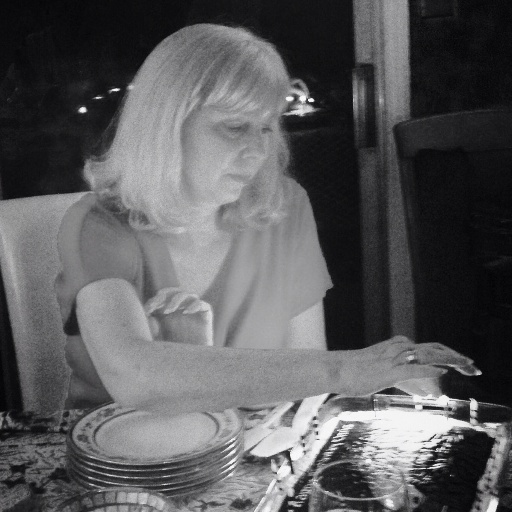hand: (326, 334, 485, 407), (142, 283, 213, 349)
